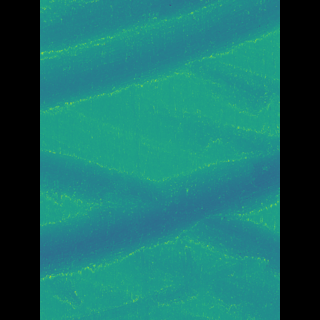Loch: (69, 134, 249, 283), (69, 0, 250, 113)
